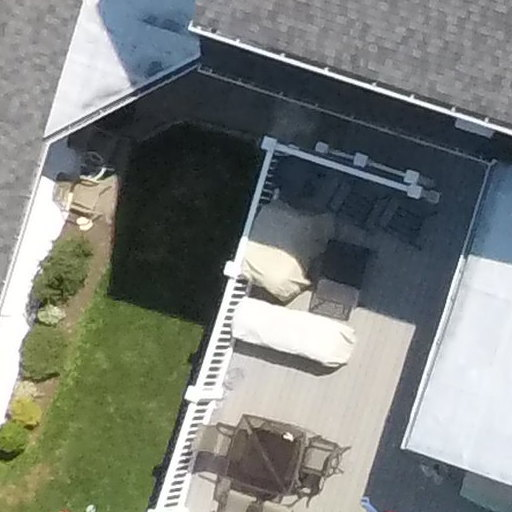porch: (146, 123, 474, 508)
table: (209, 415, 319, 501), (304, 237, 379, 326)
